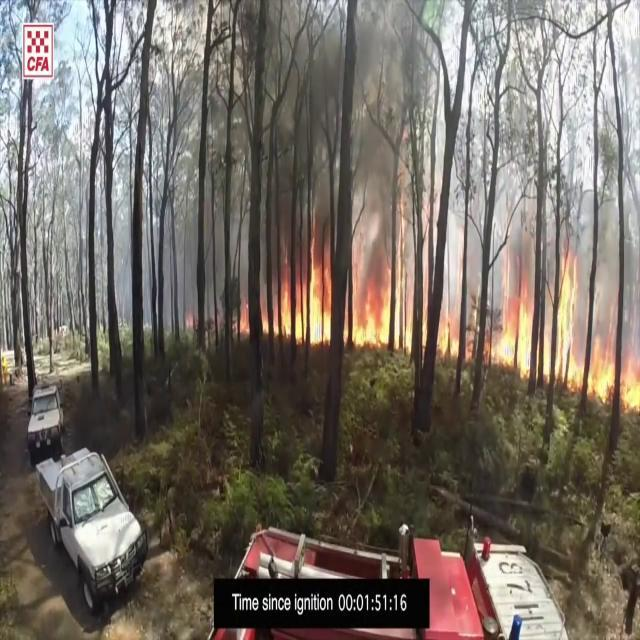Fire: (278, 246, 418, 354), (552, 248, 640, 411), (488, 254, 534, 376)
Smoke: (211, 0, 442, 311)
